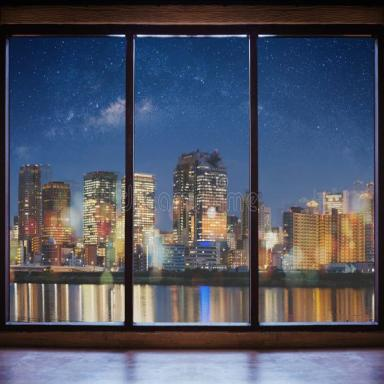glass_panel: (260, 39, 374, 307), (136, 35, 248, 295), (11, 38, 124, 276), (136, 284, 248, 324), (13, 282, 122, 322), (262, 286, 372, 322), (83, 172, 122, 268)
